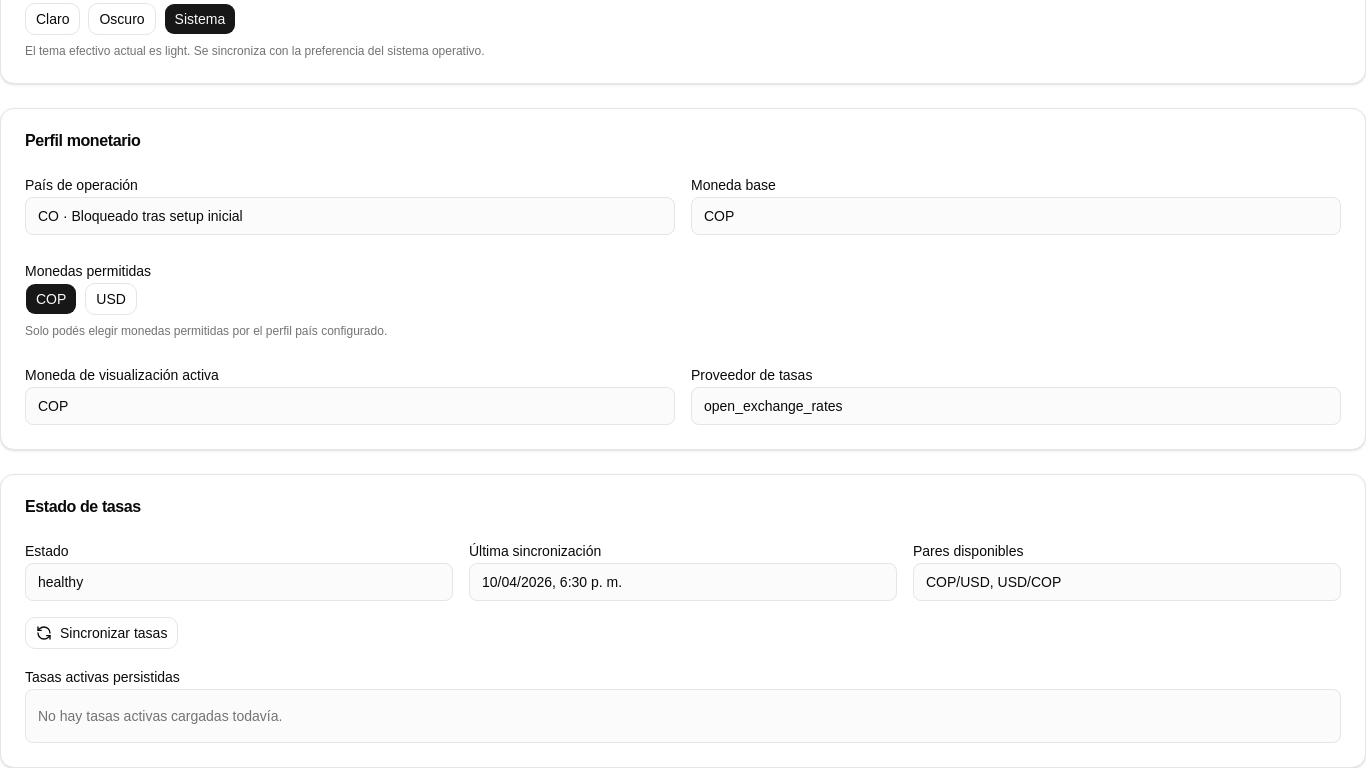
Test: SettingsPage › shows backend sync error message when rate sync fails
The width and height of the screenshot is (1366, 768).
(page scrolled)
Click the button "Sincronizar tasas": (102, 633) [25,617,178,649]
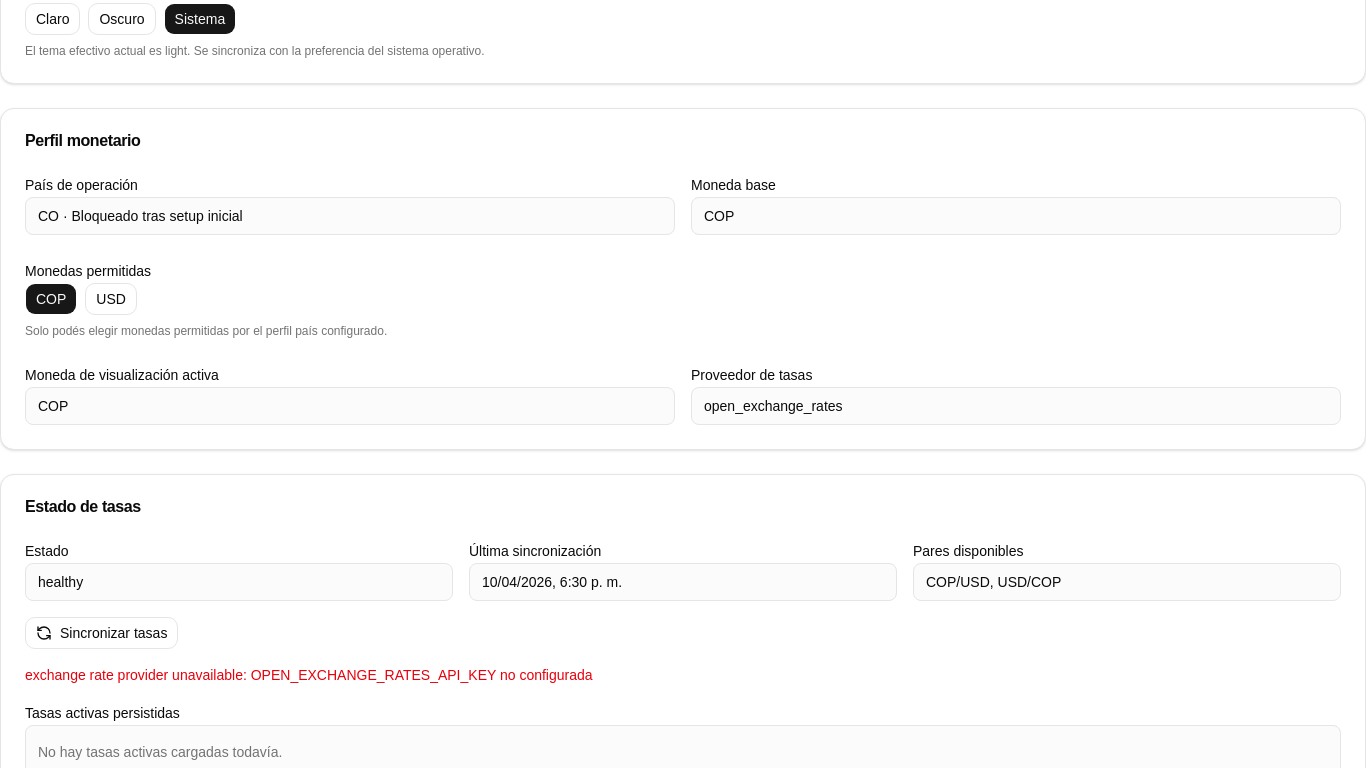
Now the text "exchange rate provider unavailable: OPEN_EXCHANGE_RATES_API_KEY no configurada" is shown, box [25,667,593,683]
